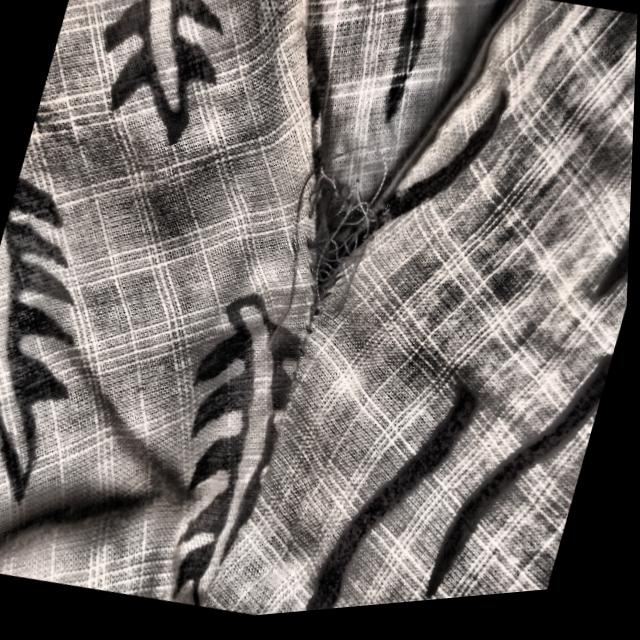Stitch: (237, 109, 426, 394)
